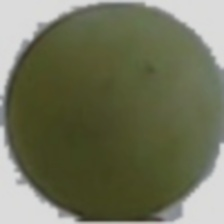grapes: (15, 63, 178, 199)
